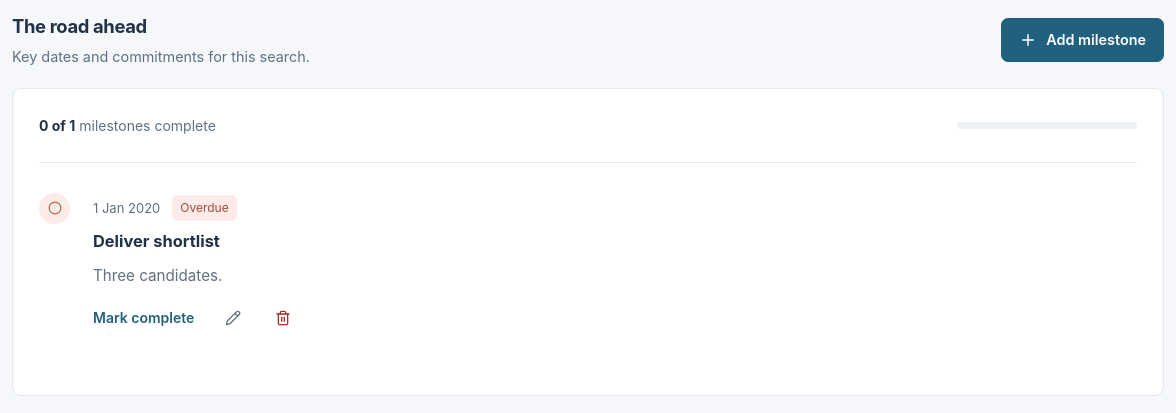
Test case: Role-specific portal screens › completes and reopens manual milestones
Click the button "Mark complete".
click(144, 318)  # box [93,300,194,336]
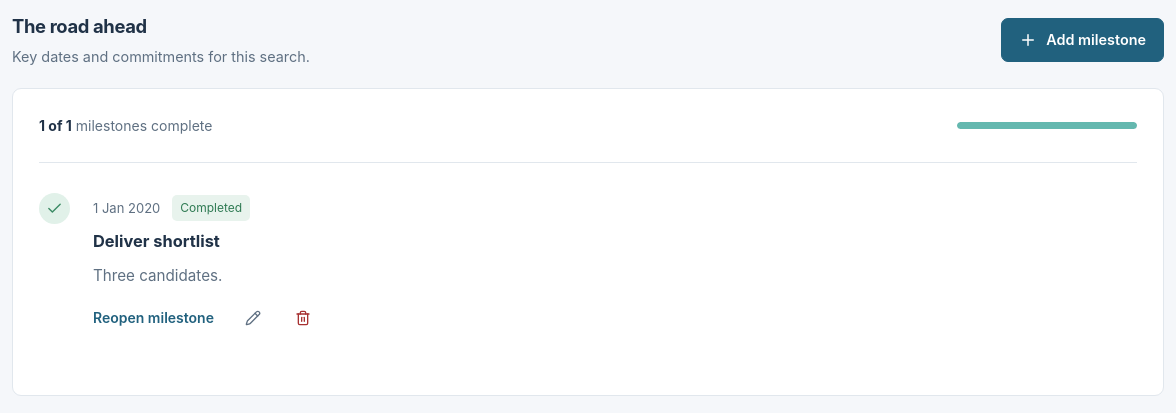
Expected: the text "Completed" is shown, [172,194,250,221]
Click the button "Reopen milestone".
click(154, 318)  # box [93,300,214,336]
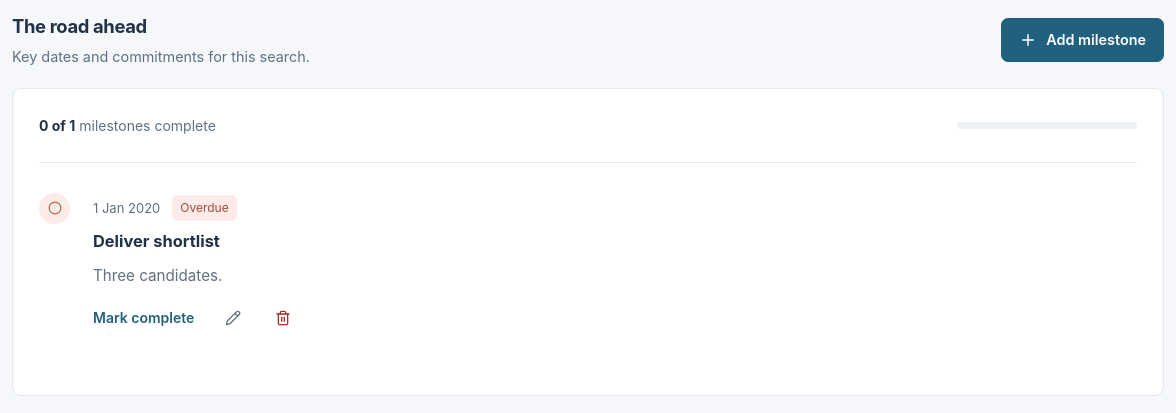
Expected: the text "Overdue" is shown, [172,194,237,221]
